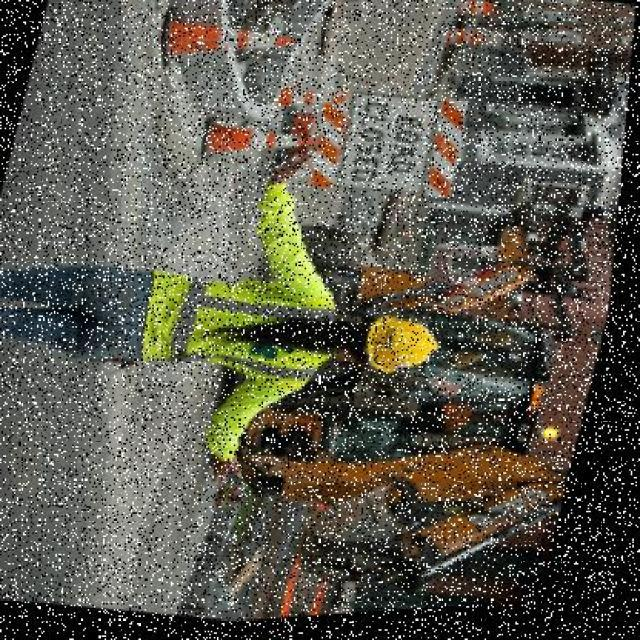helmet: (354, 303, 464, 393)
vest: (109, 239, 357, 425)
